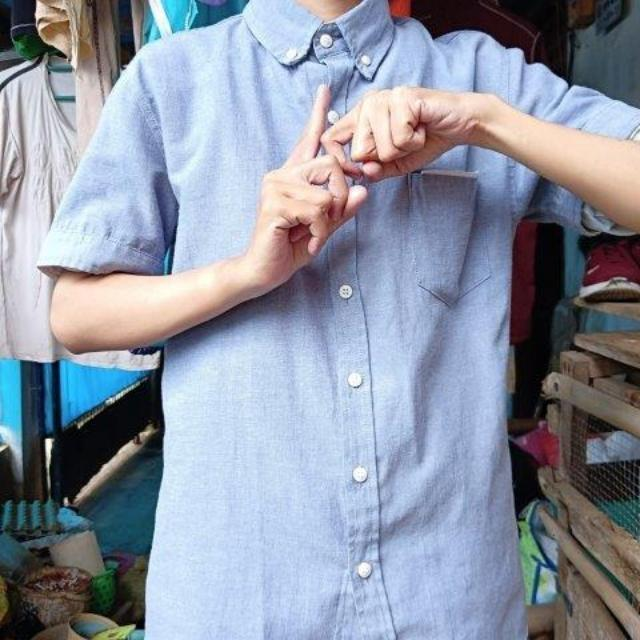K: (248, 65, 409, 288)
